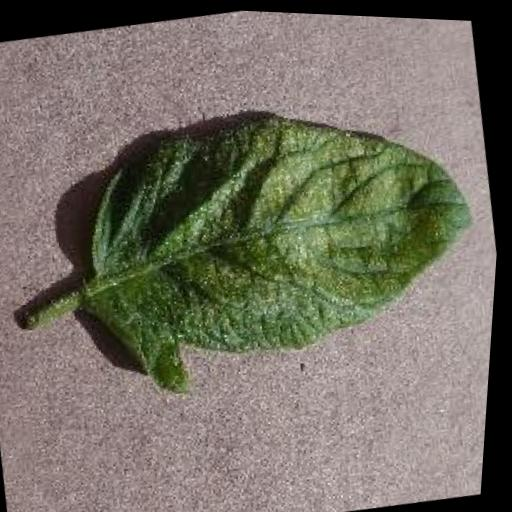Spider Mites: (62, 70, 504, 416)
